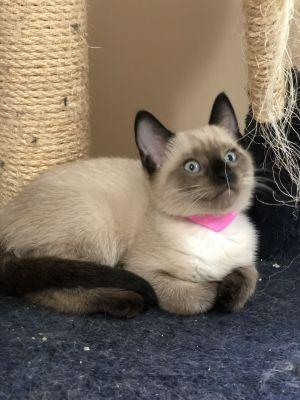siamese: (128, 85, 266, 235)
